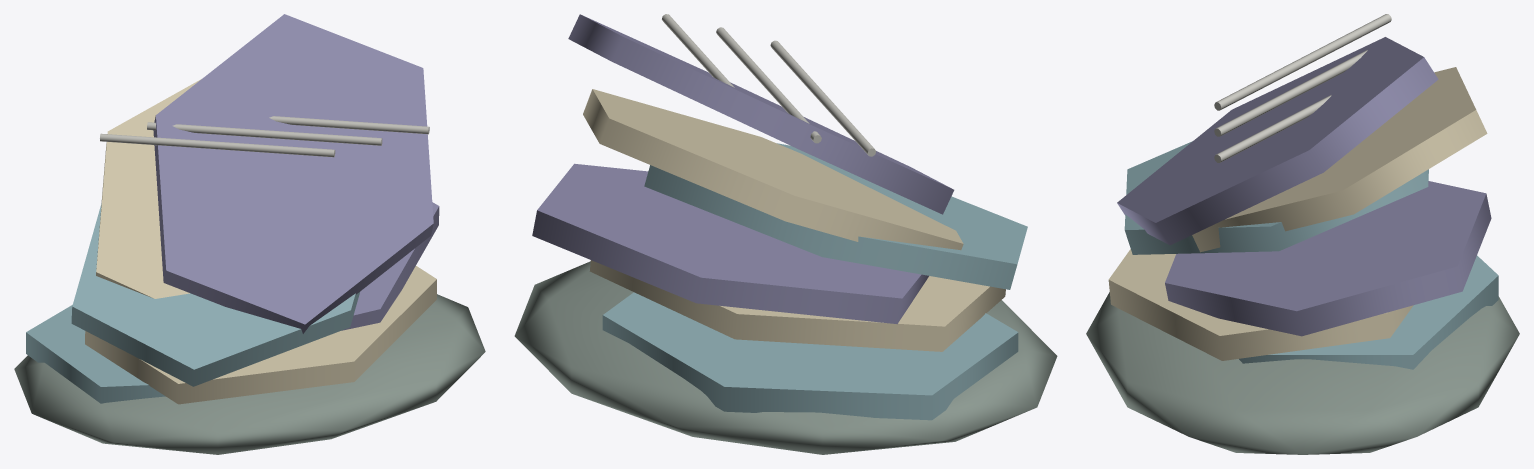
The model's file is discovery-mica.glb.
The picture shows the model from 3 angles, left to right: view 1: azimuth 30°, elevation 25°; view 2: azimuth 150°, elevation 25°; view 3: azimuth 270°, elevation 25°; orthographic projection. The views are drawn at different scales.
Parts seen in each view (by area): view 1: discovery-mica-visual; view 2: discovery-mica-visual; view 3: discovery-mica-visual.
Boxes of the visible parts, bbox=[...] form: discovery-mica-visual: bbox=[14, 14, 485, 454]; discovery-mica-visual: bbox=[514, 14, 1057, 454]; discovery-mica-visual: bbox=[1086, 14, 1519, 454].
Size of the model in its own units: 0.74 by 0.5234 by 0.56.
